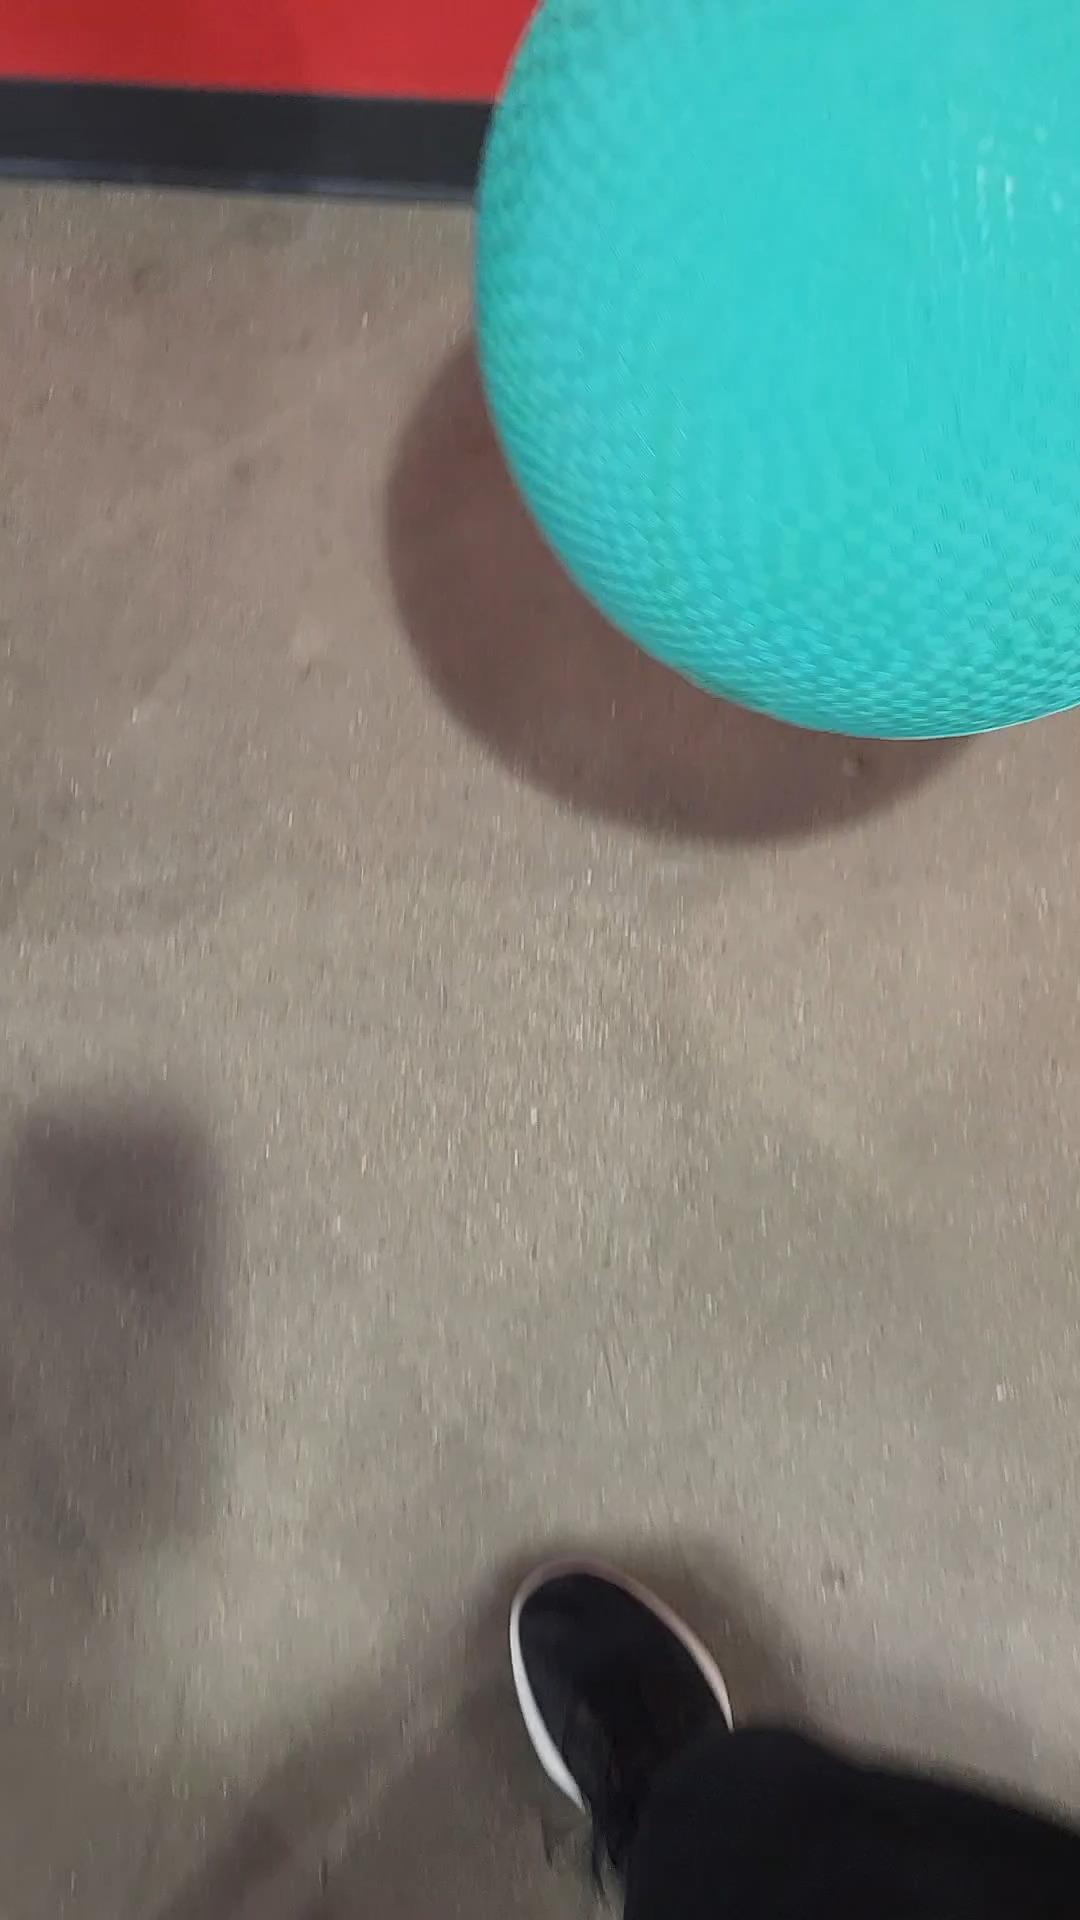algae: (481, 0, 1080, 741)
